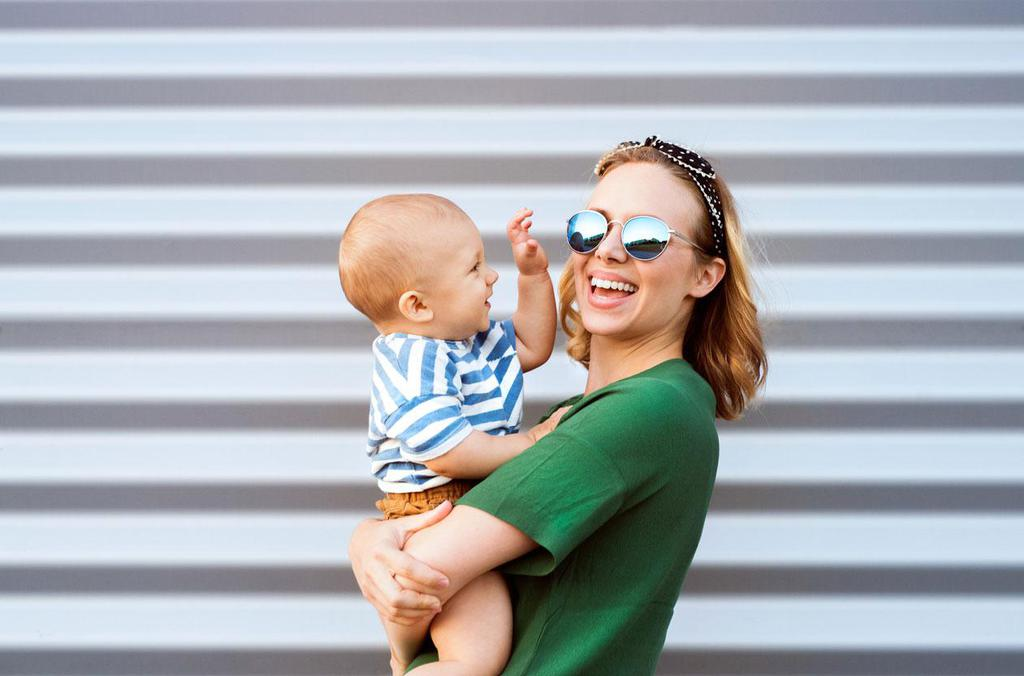child: (296, 181, 559, 676)
